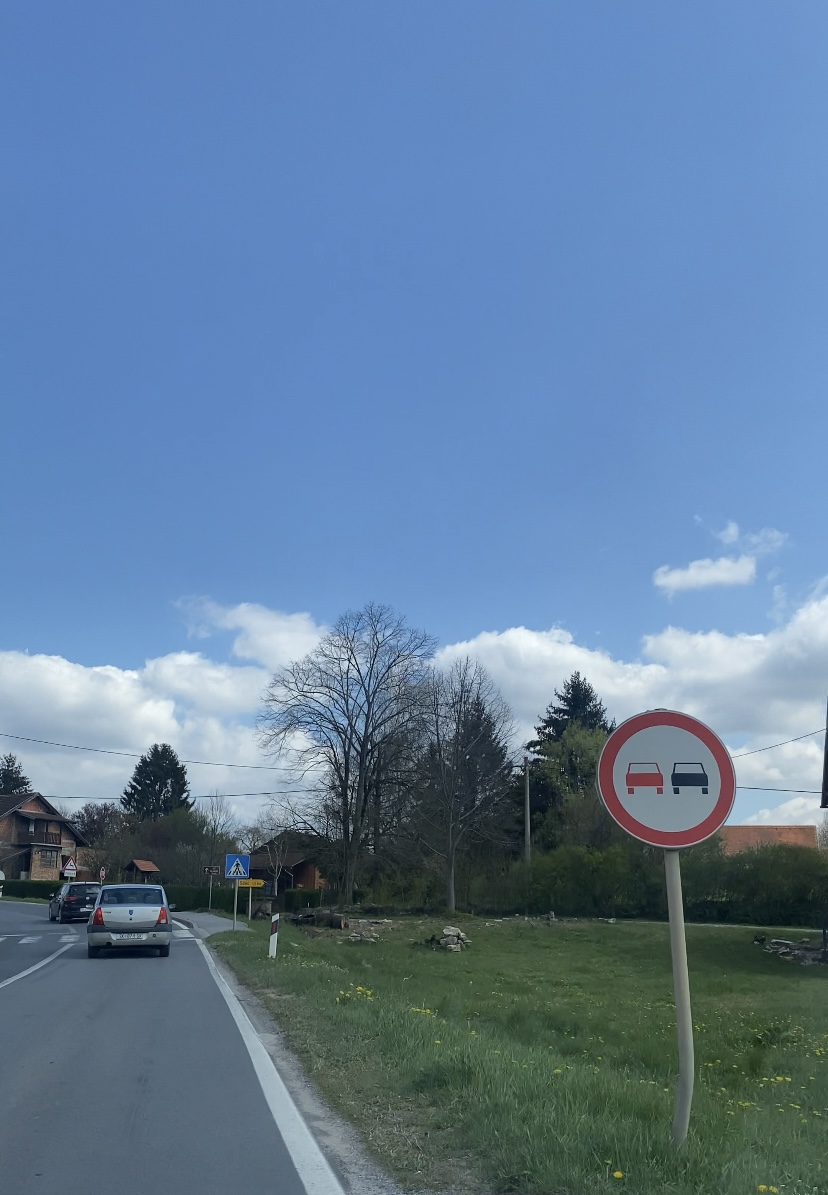Pješački prijelaz: (225, 854, 250, 877)
Zabrana pretjecanja: (597, 710, 736, 849)
